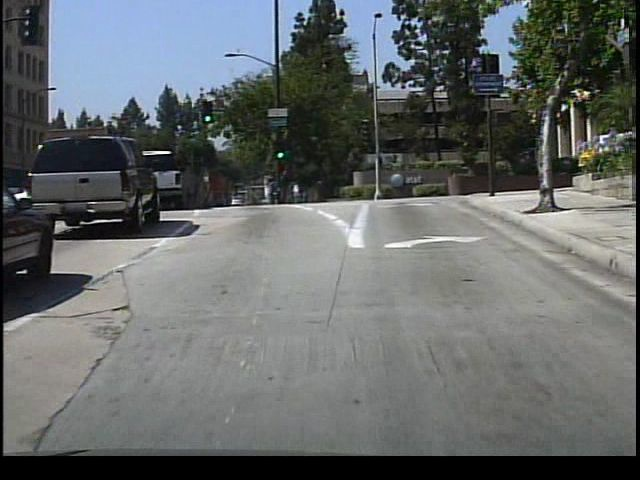person: (263, 171, 283, 207), (291, 178, 305, 205)
